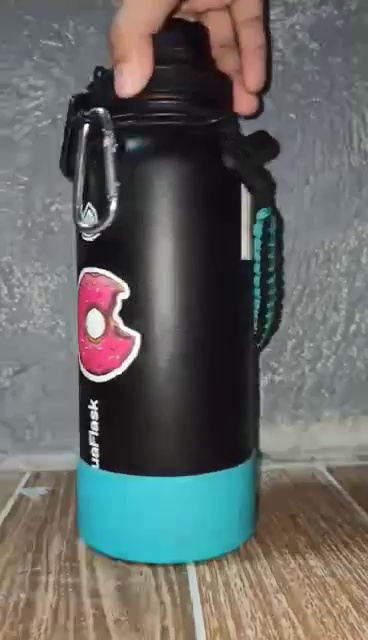hand: (109, 1, 274, 118)
tumbler: (61, 33, 287, 567)
